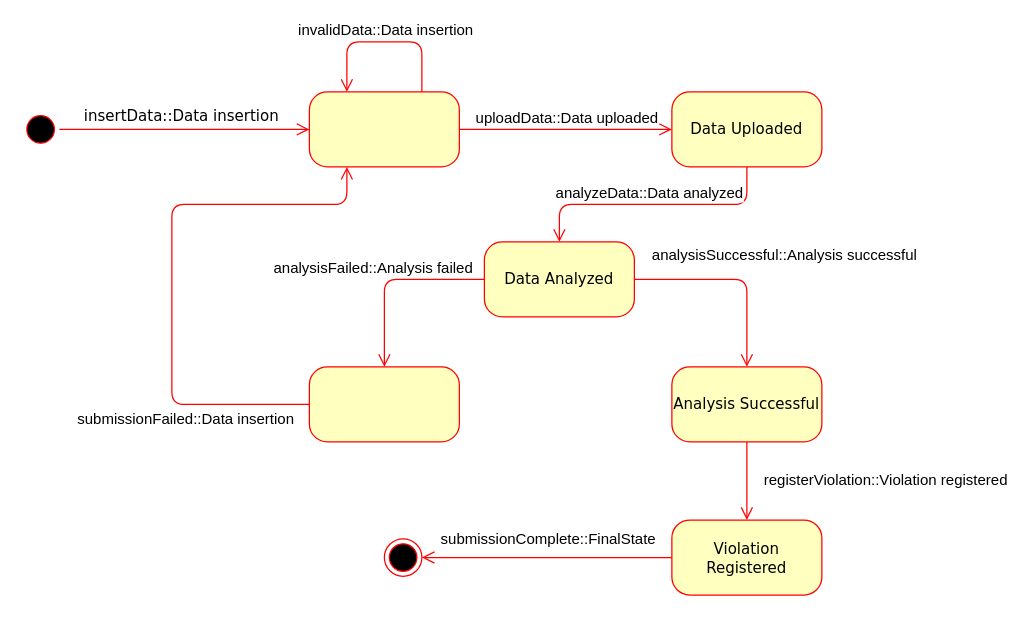
This 1029x618 diagram has some shape labels left out. Here are the shapes that lost their labels. From the top down, the centre of each, then its label:
the point at 383,129: Data Insertion
the point at 383,404: Analysis Failed
